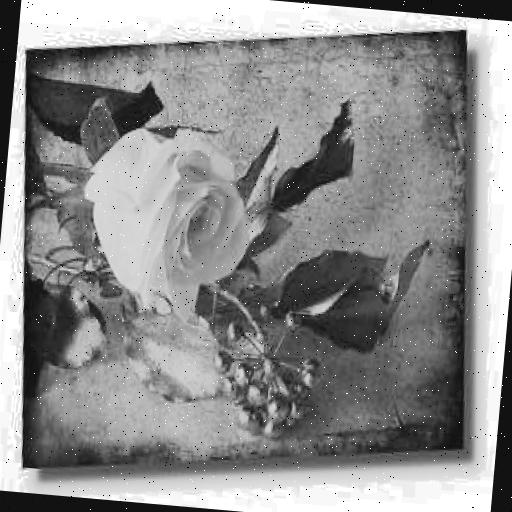rose: (76, 118, 257, 324)
